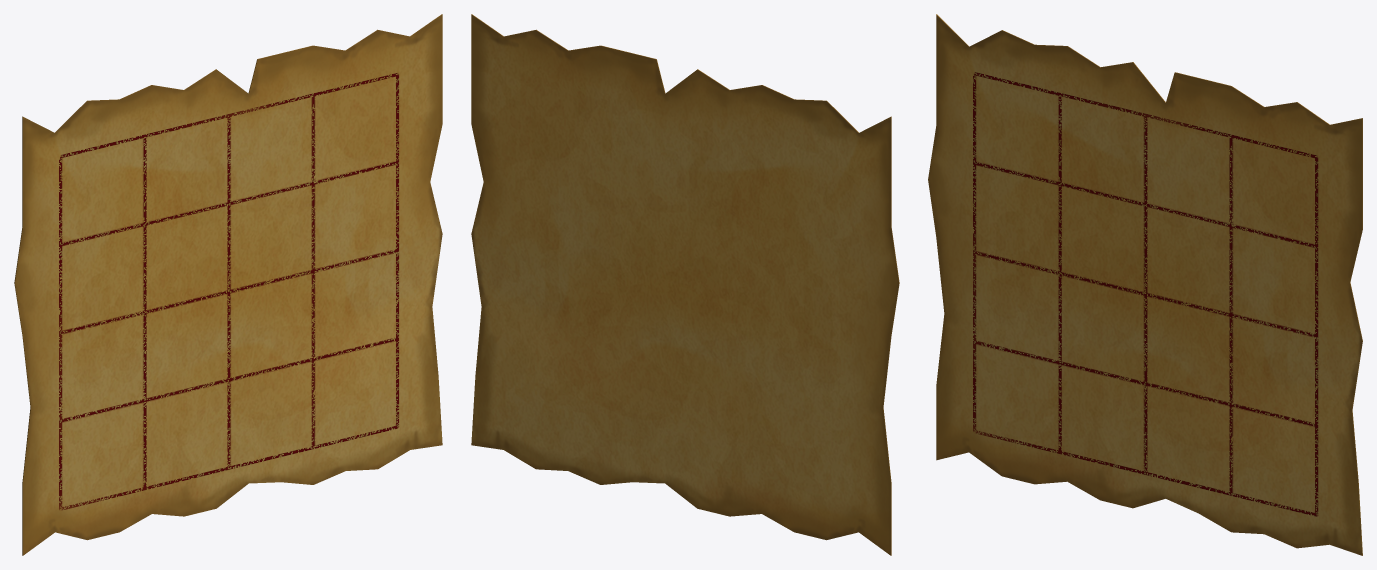
File: Map.gltf
3 renders of one model, left to right at view 1: azimuth 30°, elevation 25°; view 2: azimuth 150°, elevation 25°; view 3: azimuth 330°, elevation 25°, orthographic.
Visible parts, largest first — view 1: Plane.003; view 2: Plane.003; view 3: Plane.003.
Boxes of the visible parts, box(x1,y1,x2,y2) form: Plane.003: box(14, 14, 442, 555); Plane.003: box(471, 14, 899, 555); Plane.003: box(928, 14, 1362, 555).
Size of the model in its own units: 5.1 by 5 by 0.00925.
2 materials, 2 textured.
